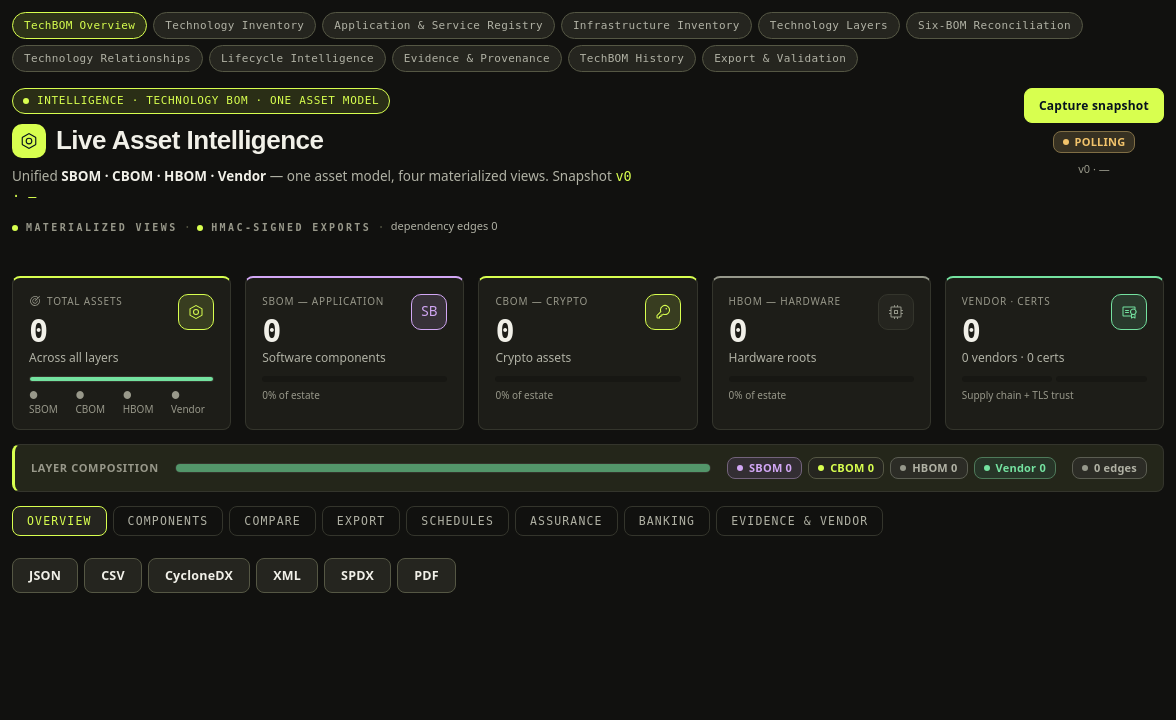
Scenario: TechBOM workspace › reconciles only on evidence — the ten screens render and a shared name is not a relationship
Click the tab "Six-BOM Reconciliation" at (994, 26), box x1=906 y1=12 x2=1083 y2=39
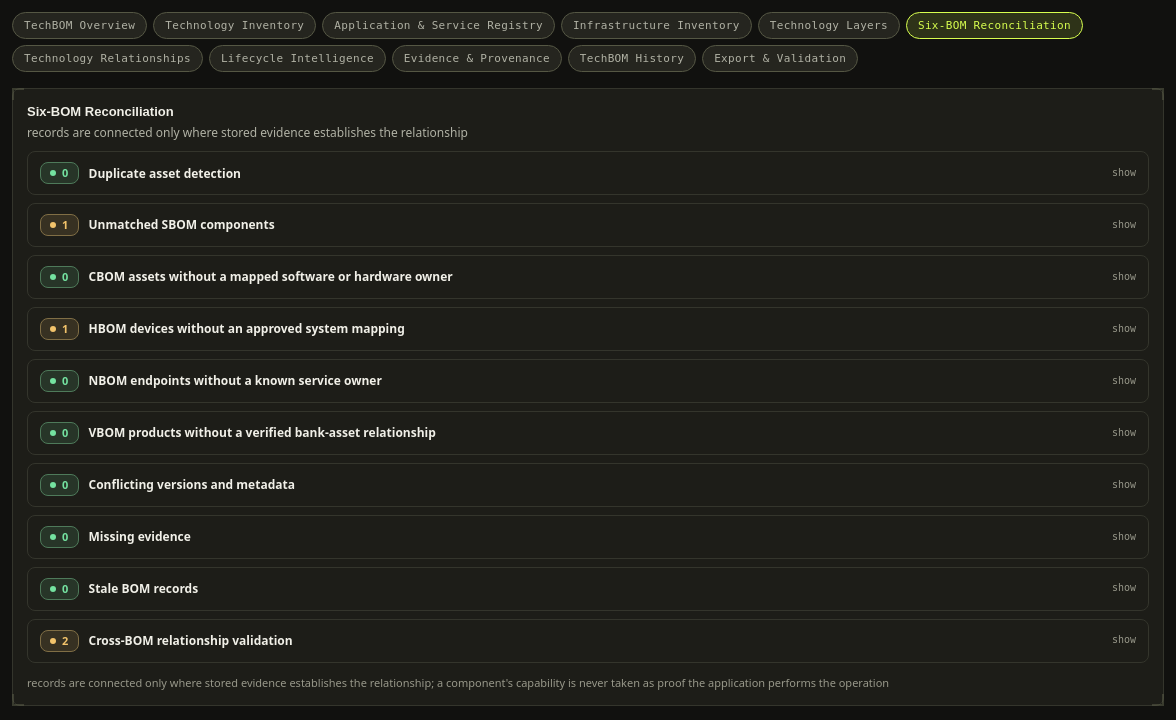
expect the text "Duplicate asset detection" is shown: met, box x1=88 y1=164 x2=241 y2=182
expect the text "Unmatched SBOM components" is shown: met, box x1=88 y1=216 x2=275 y2=234
expect the text "CBOM assets without a mapped software or hardware owner" is shown: met, box x1=88 y1=268 x2=453 y2=286
